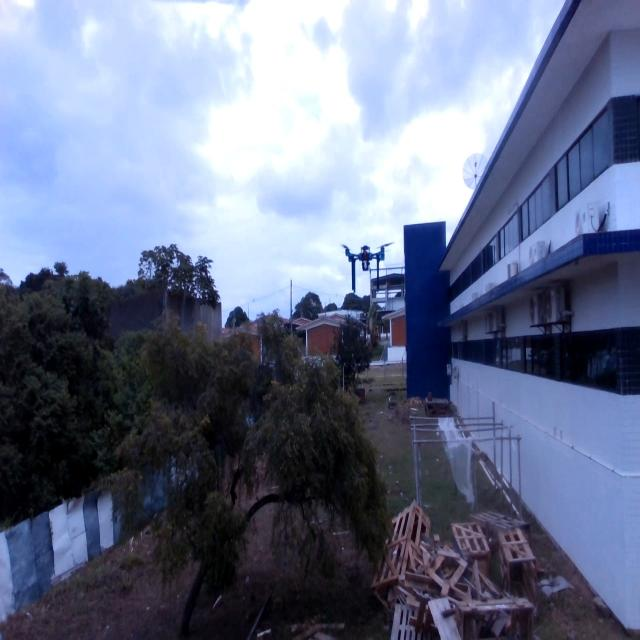-uav-: (334, 235, 395, 298)
